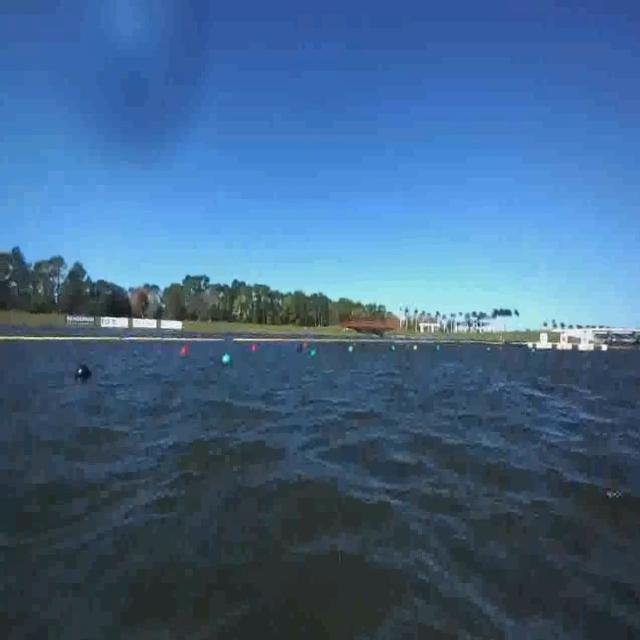black-buoy: (74, 362, 91, 380)
green-buoy: (221, 354, 231, 366)
red-buoy: (177, 346, 191, 360)
